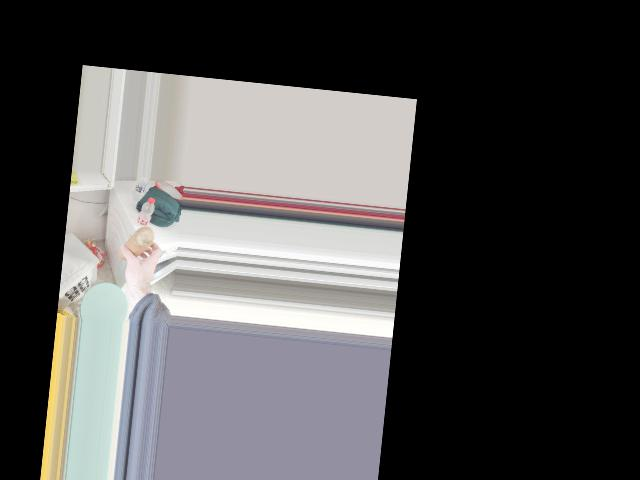sweet_potato: (117, 223, 152, 261)
